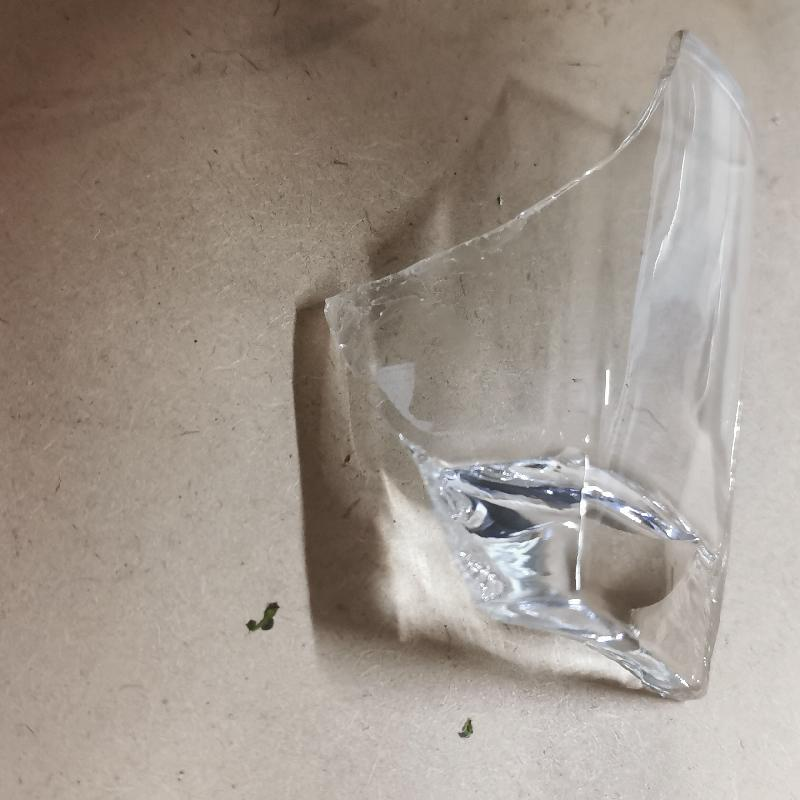glass: (314, 27, 748, 703)
